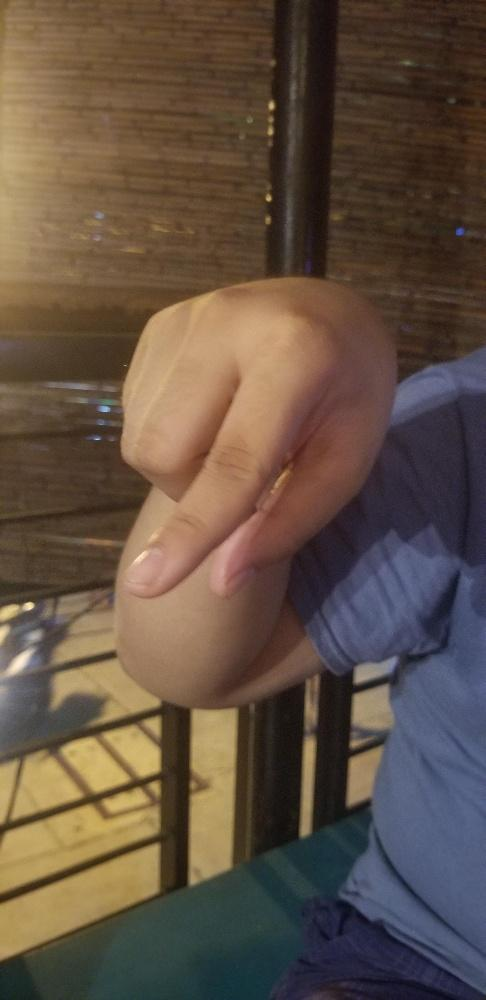z: (117, 271, 400, 599)
